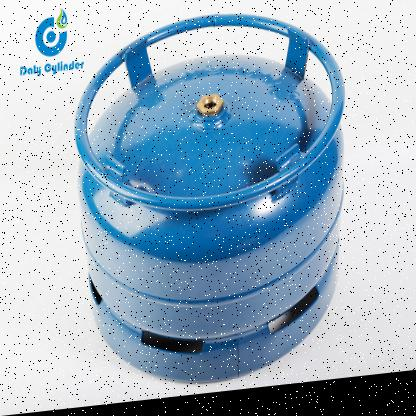gas-tank: (63, 1, 363, 405)
